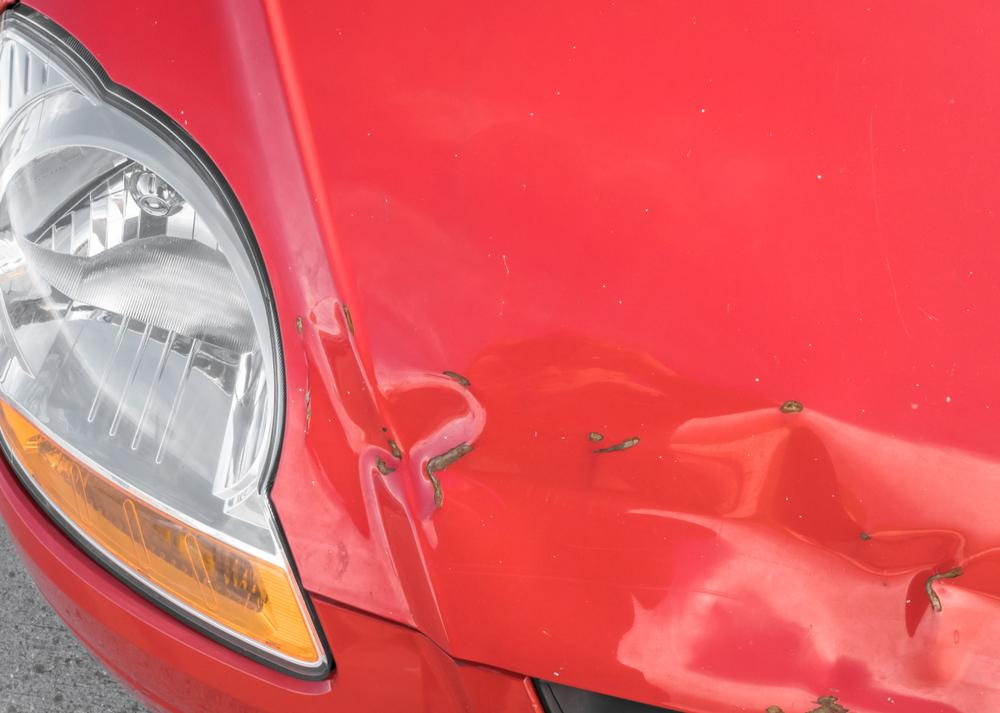dent: (297, 311, 1000, 710)
